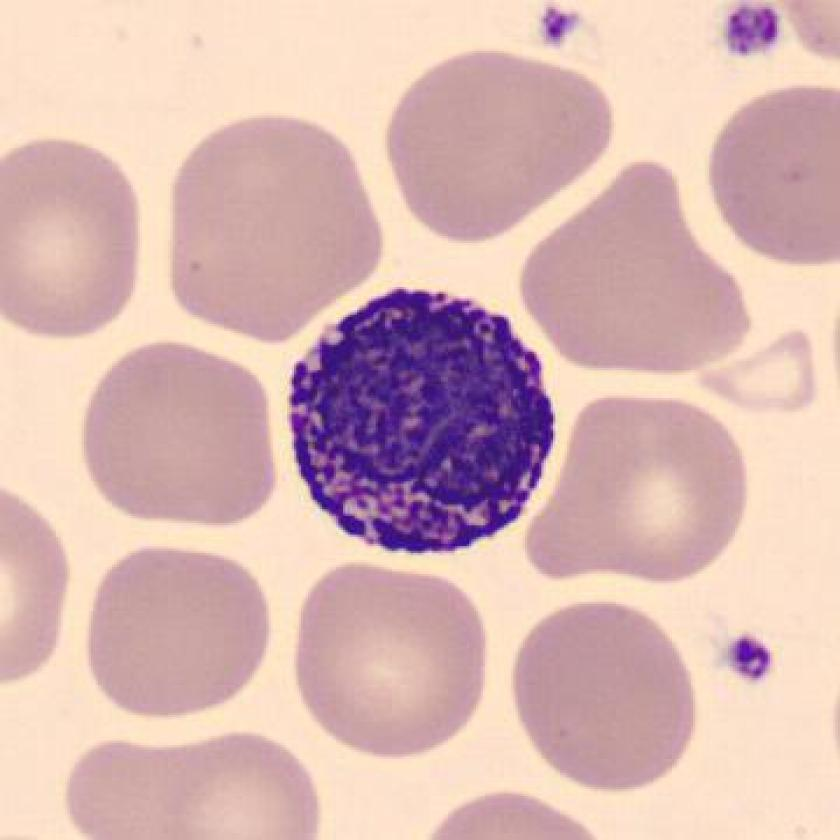basophil: (279, 288, 552, 552)
